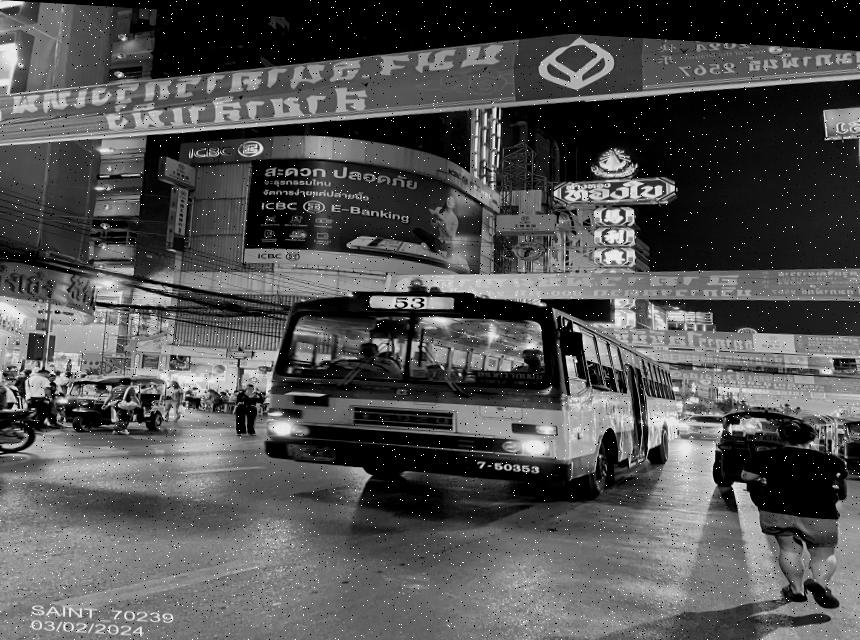BMTA-bus: (261, 286, 674, 492)
Bus Line Number: (384, 289, 434, 307)
Bus Side Number: (470, 452, 547, 467)
Destination Sign: (478, 361, 550, 382)
